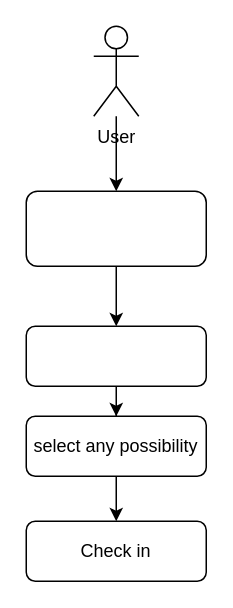
Image size: 233x608. Some labels were removed from this diagram. Here are the shapes that lost their labels. From the top down, the box of each, then its label:
(25, 190, 206, 266): Go through checkin-Progress until checkin modal
(25, 325, 206, 386): click dropdown for visibility for travel
